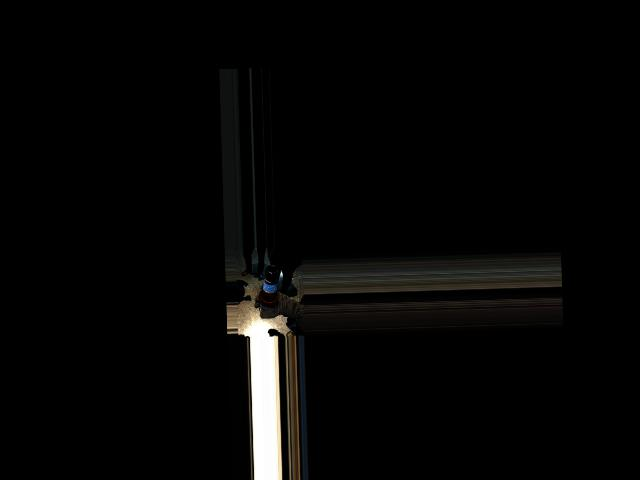beer: (256, 264, 280, 315)
